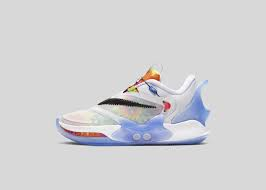nike: (91, 89, 164, 118)
